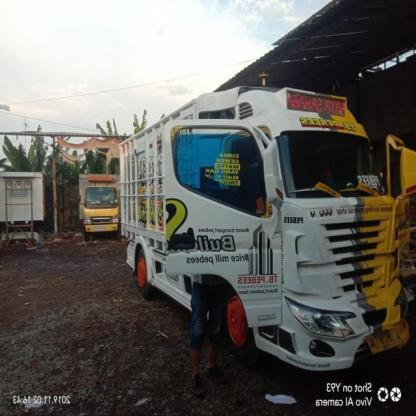truck: (119, 85, 416, 374), (1, 164, 48, 253), (77, 172, 126, 244)
